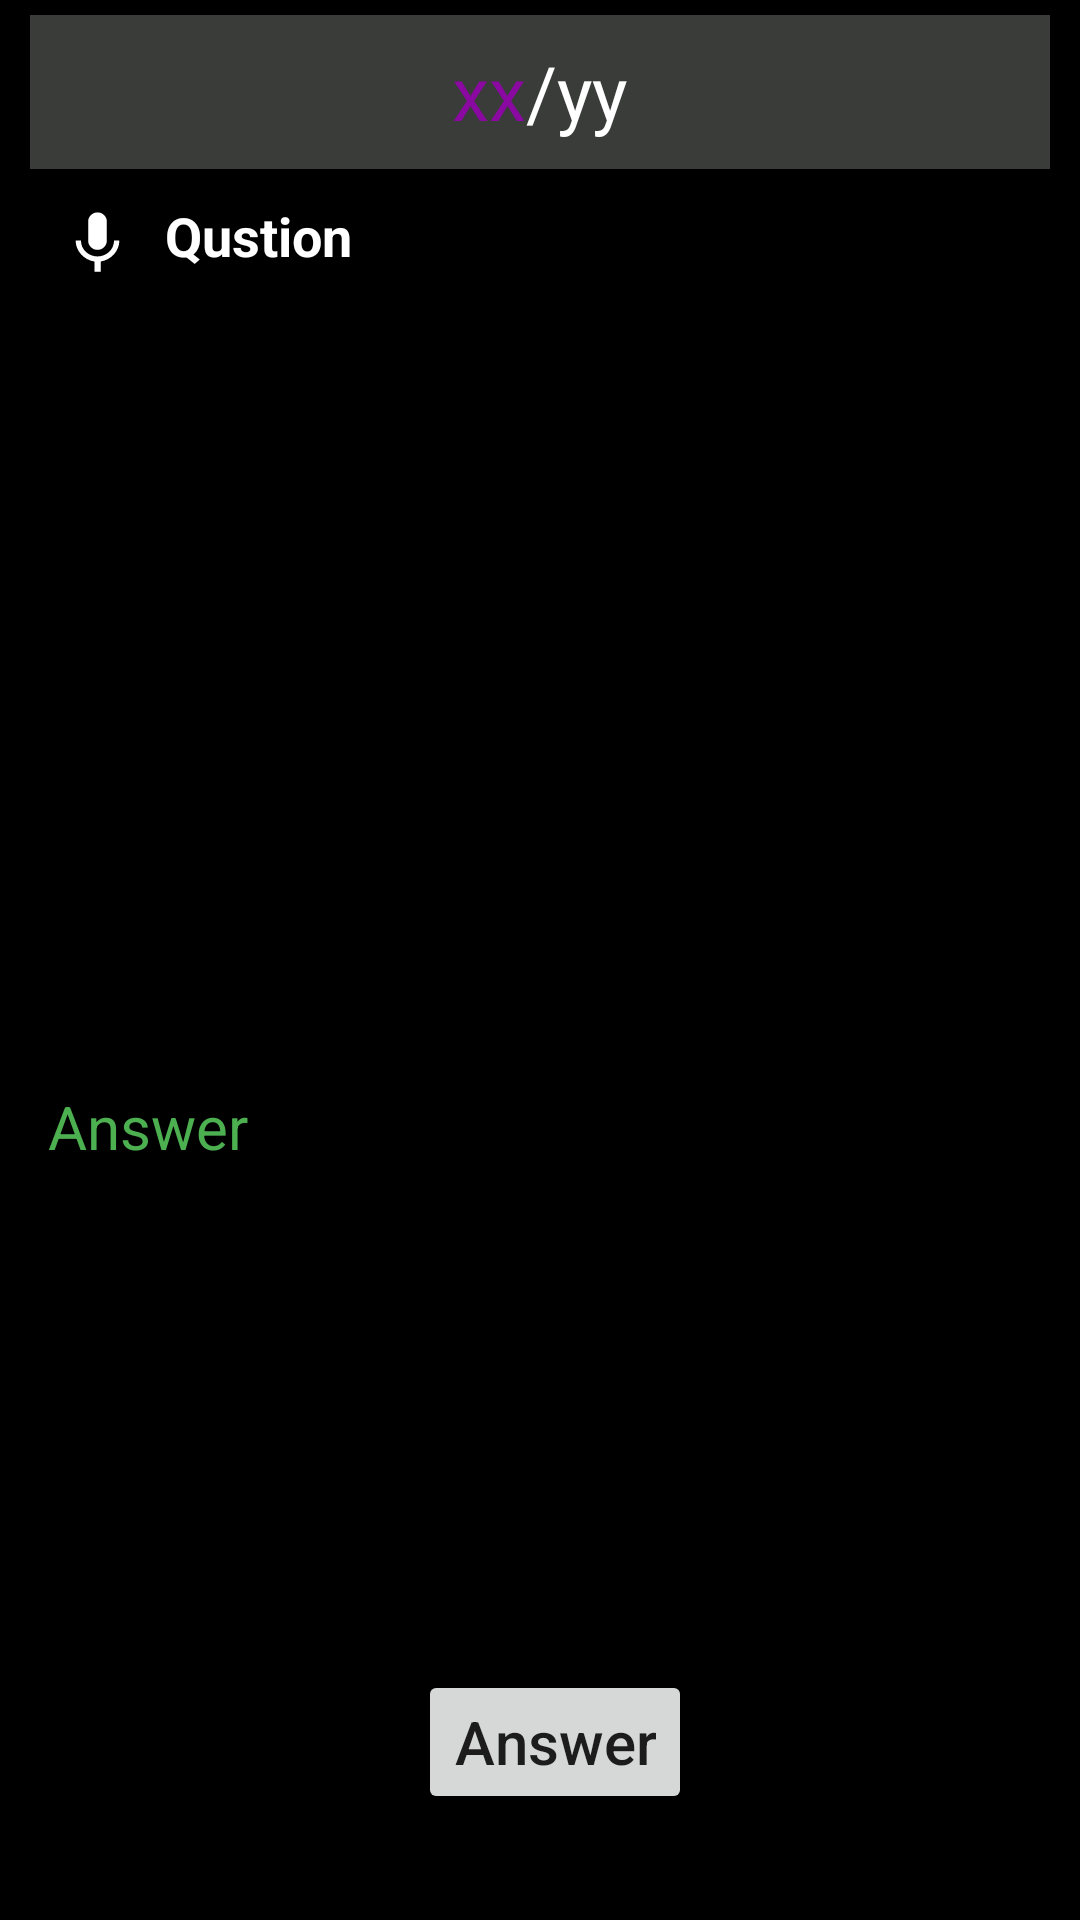

Locate icon controls on the screen. Image size 1080*1920, boxes as (x1, y1, x2, y2).
voice: (75, 212, 120, 272)
